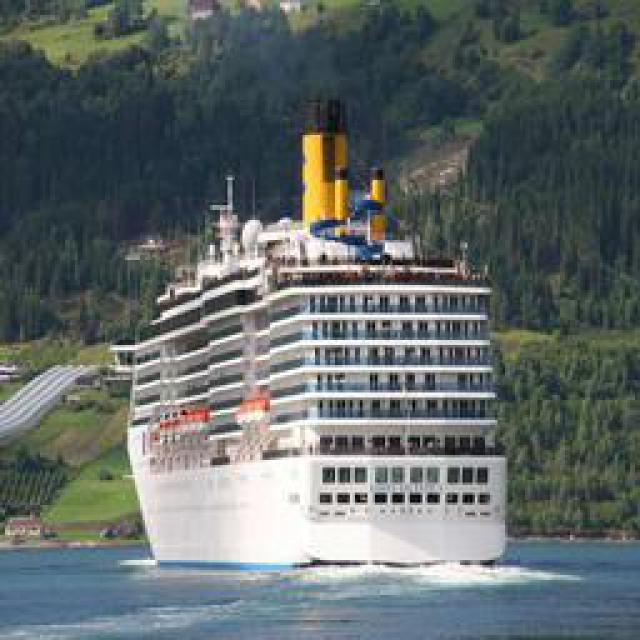Ship: (120, 244, 500, 577)
